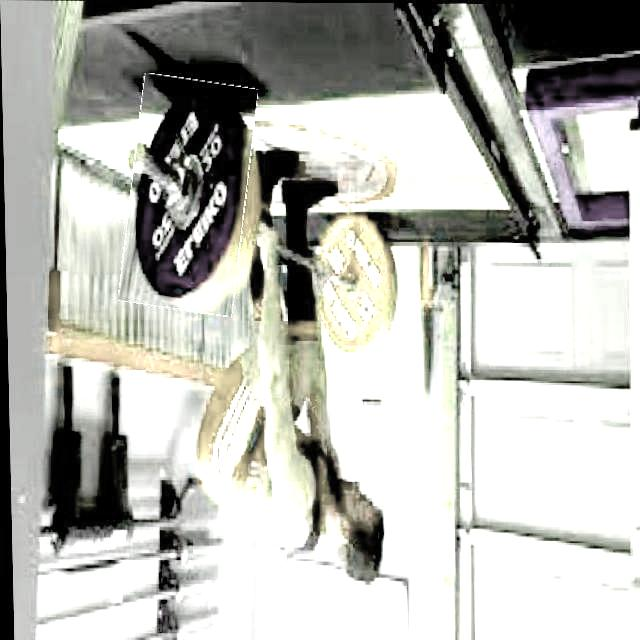barbell: (121, 75, 255, 313)
